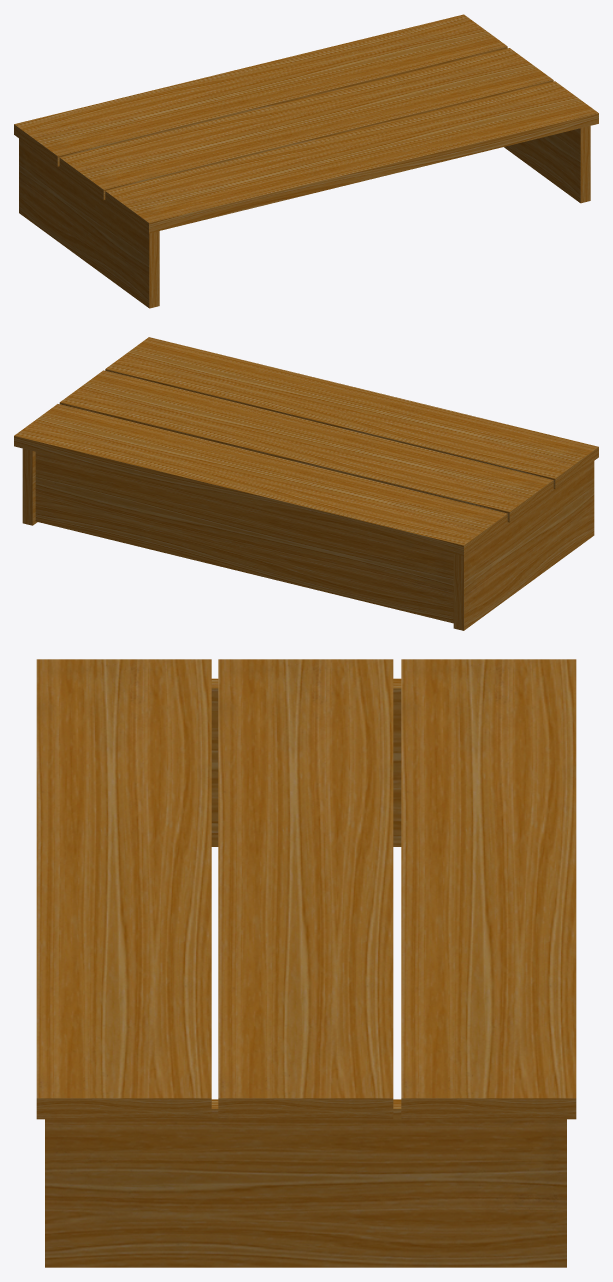
Rendered from Step up.fbx.
The picture shows the model from 3 angles, top to bottom: view 1: azimuth 30°, elevation 25°; view 2: azimuth 150°, elevation 25°; view 3: azimuth 270°, elevation 25°; orthographic projection. The views are drawn at different scales.
Visible parts, largest first — view 1: Step_up; view 2: Step_up; view 3: Step_up.
Part boxes in pixels (<box>): Step_up: <box>14,14,598,308</box>; Step_up: <box>14,337,598,630</box>; Step_up: <box>36,659,576,1267</box>.
Size of the model in its own units: 21.5 by 4 by 11.17.
